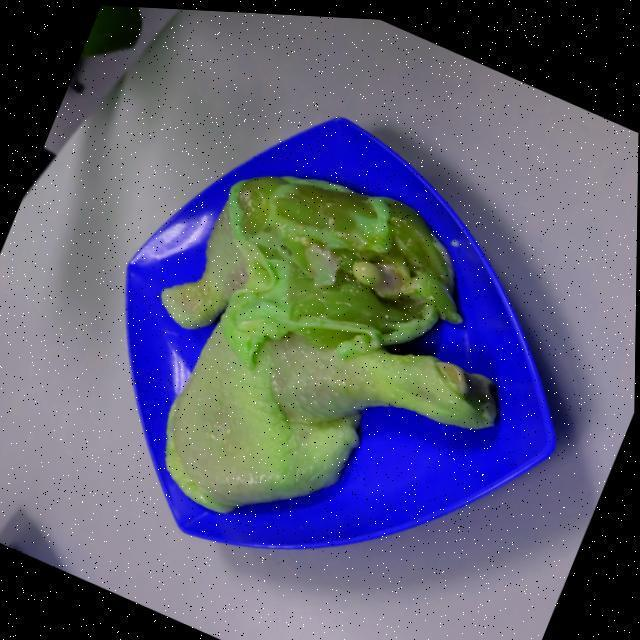quater: (179, 296, 495, 526), (165, 156, 452, 344)
